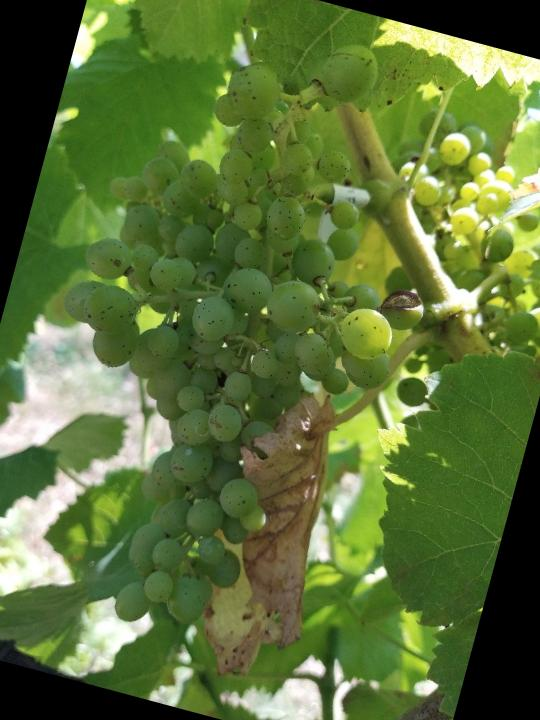grape: (0, 0, 490, 679)
